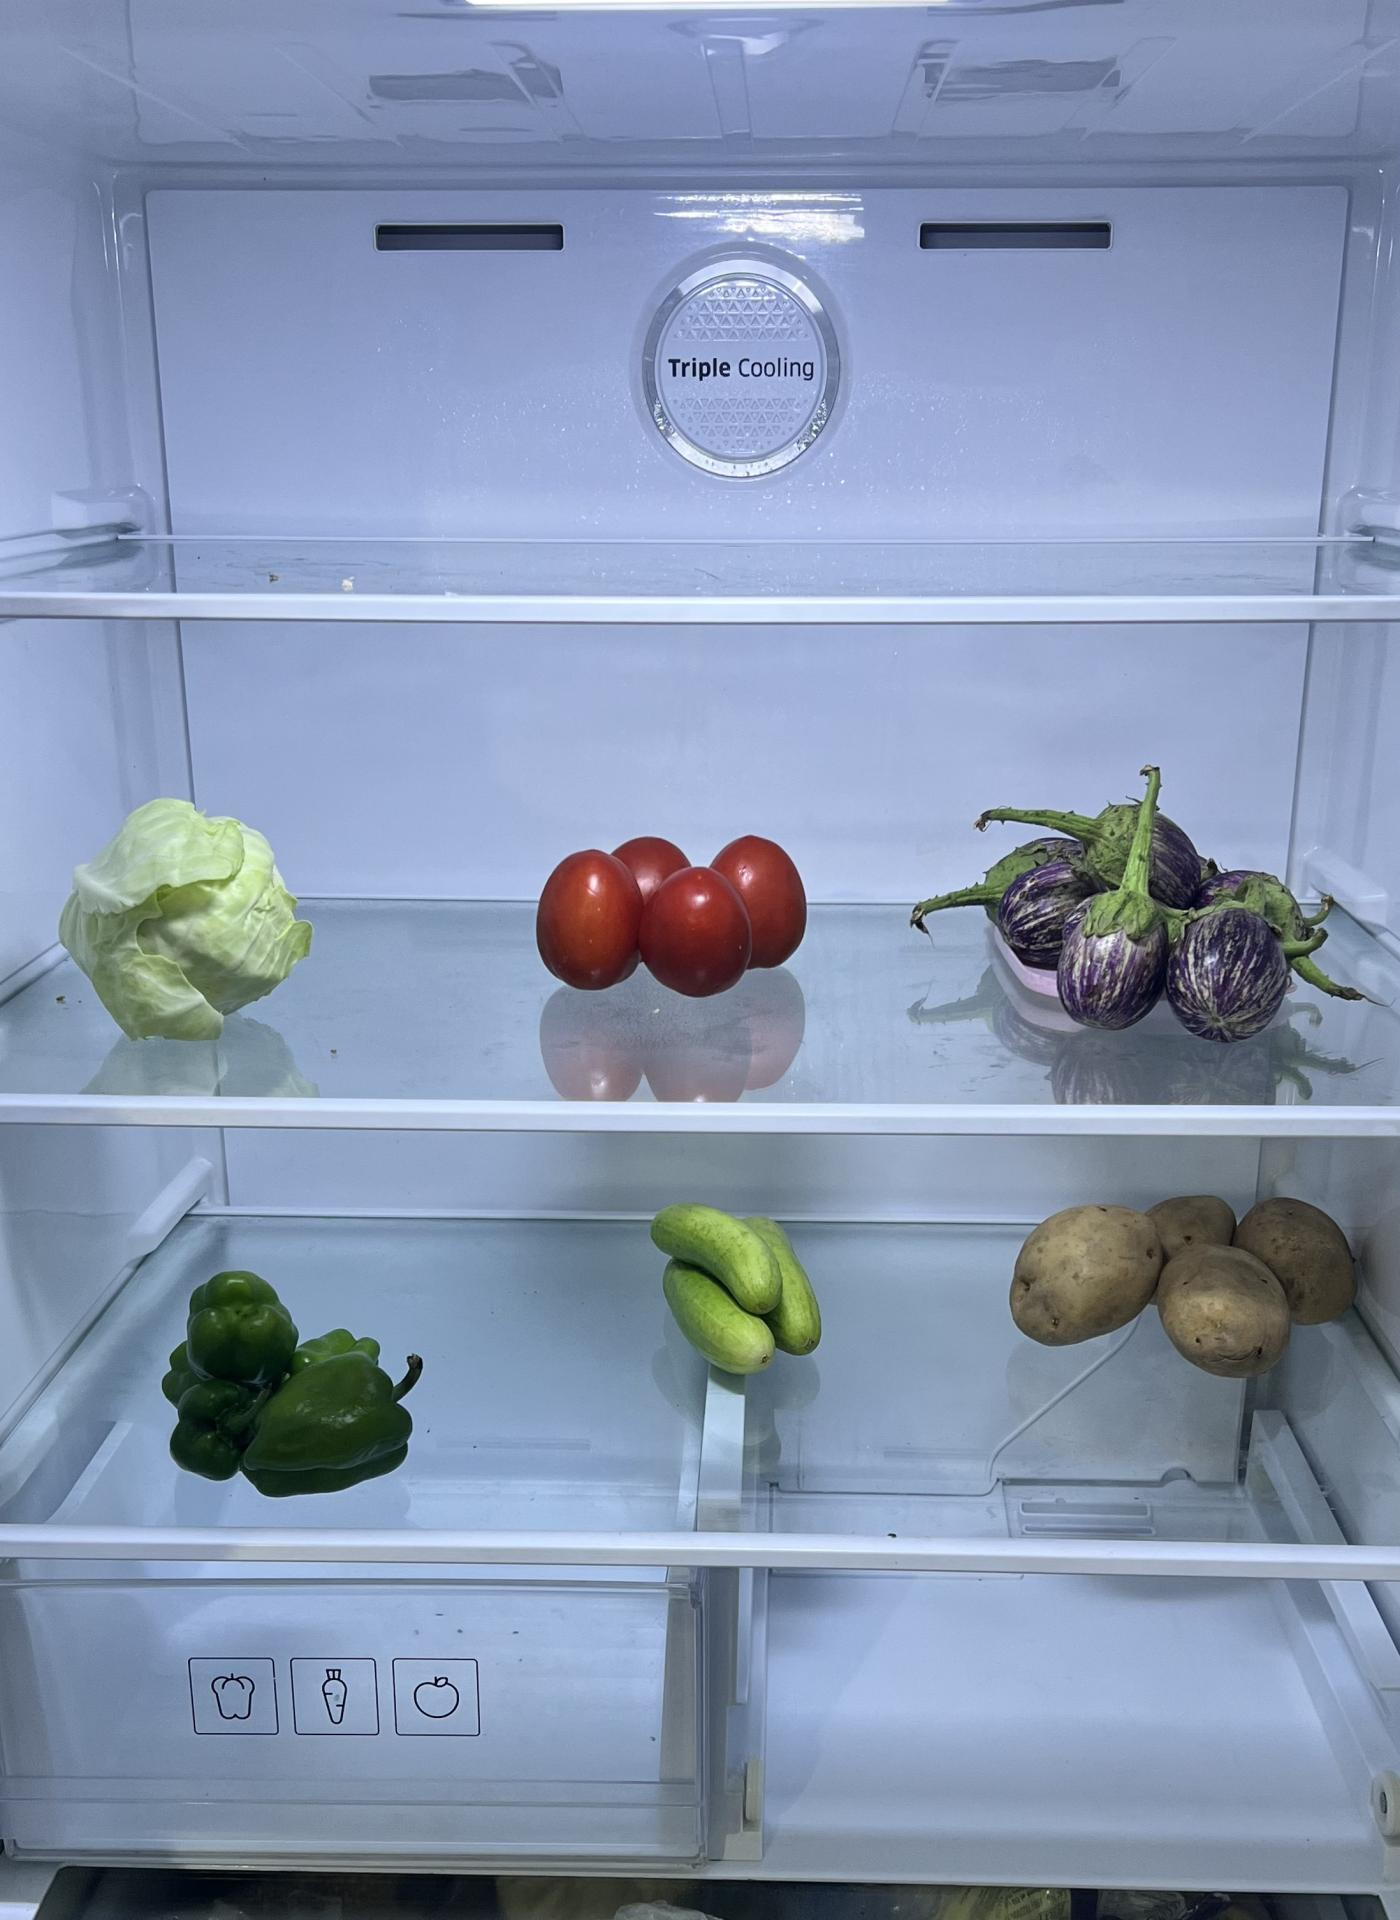bread: (18, 1863, 508, 1920), (30, 1845, 434, 1908)
brinjal: (980, 795, 1303, 1048)
cabbage: (63, 789, 315, 1039)
capsicum: (164, 1269, 425, 1498)
cucumber: (656, 1196, 829, 1377)
potato: (1008, 1190, 1363, 1370)
tomato: (534, 827, 811, 996)
